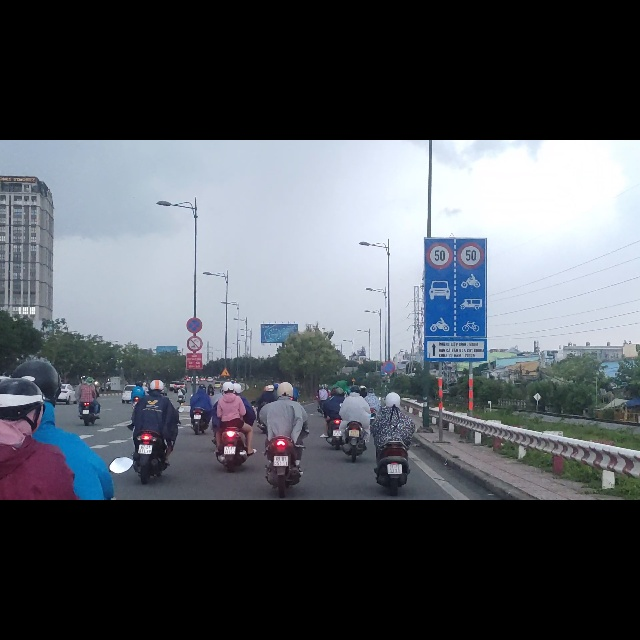bien_cam: (424, 231, 486, 350), (427, 182, 453, 228), (458, 182, 483, 228), (186, 315, 203, 344), (187, 348, 203, 376), (383, 393, 395, 416), (220, 404, 230, 419)
